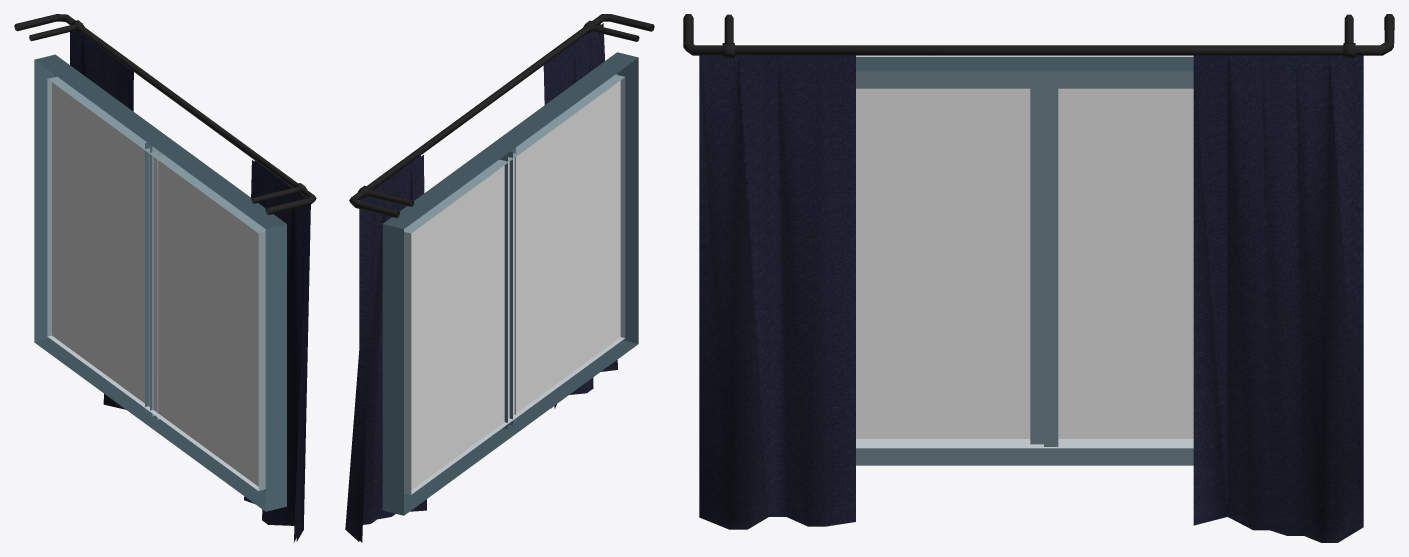
Rendered from M_chuang04.FBX.
The picture shows the model from 3 angles, left to right: view 1: azimuth 30°, elevation 25°; view 2: azimuth 150°, elevation 25°; view 3: azimuth 270°, elevation 25°; orthographic projection. The views are drawn at different scales.
Parts seen in each view (by area): view 1: M_chuang04_02, M_chuang04_01, M_chuang04_04, M_chuang04_03; view 2: M_chuang04_02, M_chuang04_01, M_chuang04_04, M_chuang04_03; view 3: M_chuang04_04, M_chuang04_02, M_chuang04_01, M_chuang04_03.
Boxes of the visible parts, left/top/right/bottom form: M_chuang04_02: left=52, top=82, right=258, bottom=486; M_chuang04_01: left=34, top=54, right=286, bottom=511; M_chuang04_04: left=70, top=30, right=310, bottom=542; M_chuang04_03: left=14, top=14, right=316, bottom=214; M_chuang04_02: left=411, top=80, right=620, bottom=489; M_chuang04_01: left=382, top=52, right=638, bottom=515; M_chuang04_04: left=345, top=23, right=617, bottom=542; M_chuang04_03: left=349, top=14, right=654, bottom=217; M_chuang04_04: left=699, top=55, right=1363, bottom=542; M_chuang04_02: left=856, top=88, right=1193, bottom=438; M_chuang04_01: left=856, top=56, right=1193, bottom=465; M_chuang04_03: left=683, top=14, right=1394, bottom=57.
Size of the model in its own units: 0.7839 by 3.67 by 4.9.
